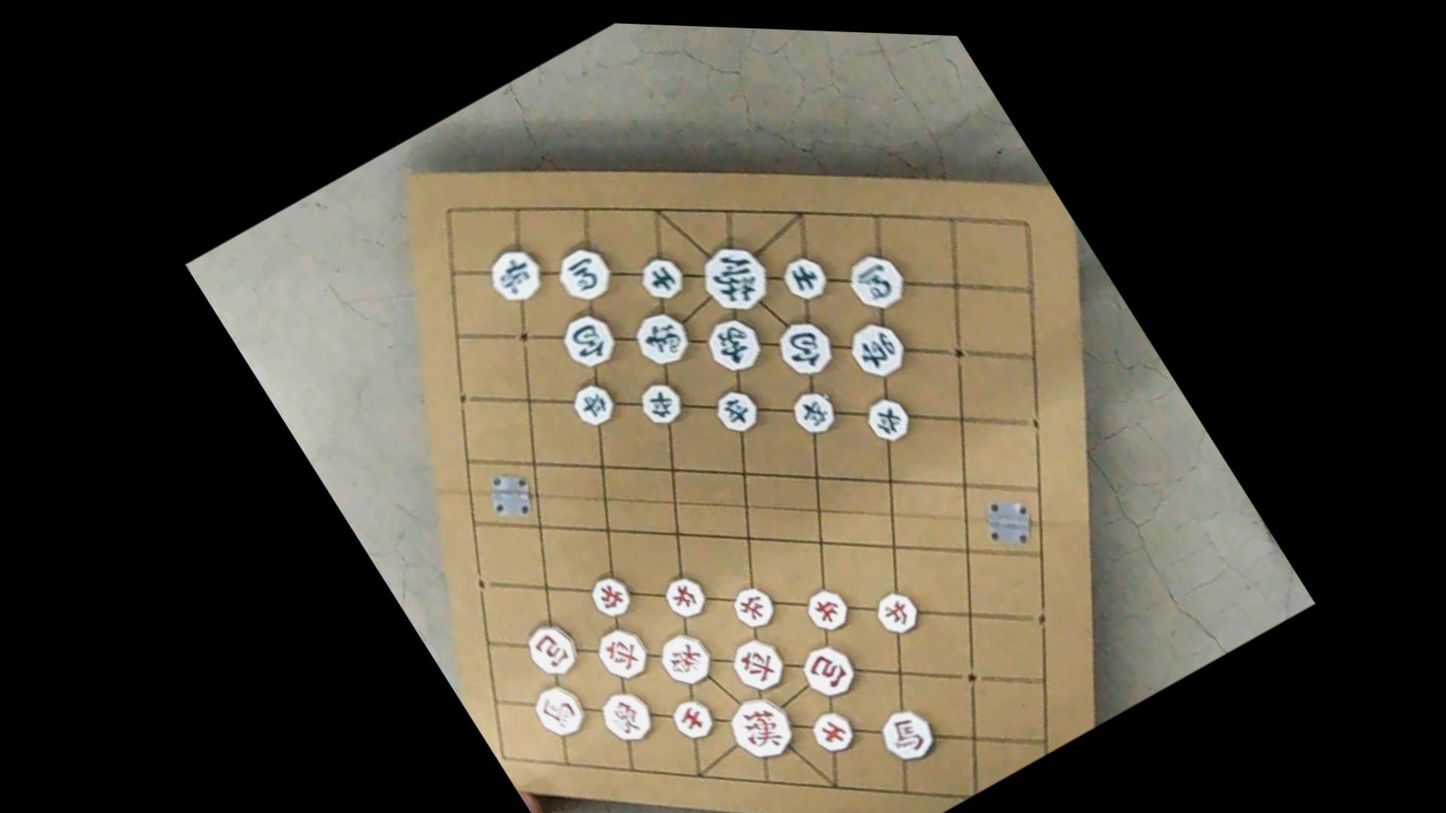cha_green: (841, 315, 914, 385), (480, 240, 553, 310)
cha_red: (725, 632, 793, 699), (590, 620, 656, 687)
jol_green: (859, 391, 917, 449), (786, 384, 844, 440), (633, 376, 690, 431), (565, 377, 621, 432), (709, 384, 765, 439)
jol_red: (869, 586, 926, 641), (800, 583, 856, 638), (727, 581, 782, 635), (658, 571, 714, 624), (584, 570, 639, 623)
ma_green: (840, 247, 914, 318), (550, 240, 620, 308)
ma_red: (872, 701, 943, 769), (526, 678, 593, 744)
po_green: (769, 312, 843, 384), (553, 306, 624, 375)
po_red: (795, 638, 864, 705), (519, 617, 587, 683)
sa_green: (776, 251, 835, 308), (633, 251, 691, 306)
sa_red: (806, 706, 861, 760), (666, 693, 720, 746)
sang_green: (697, 310, 770, 380), (626, 303, 698, 373)
sang_red: (651, 626, 720, 693), (593, 684, 661, 751)
wang_green: (691, 235, 780, 322)
wang_red: (720, 688, 804, 769)
